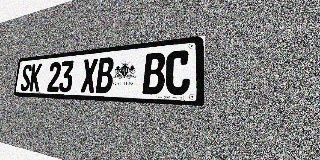2: (47, 61, 61, 92)
3: (59, 60, 74, 92)
B: (142, 52, 166, 95), (95, 57, 114, 93)
C: (165, 50, 191, 95)
K: (29, 63, 42, 92)
S: (20, 64, 32, 91)
X: (80, 58, 98, 93)
